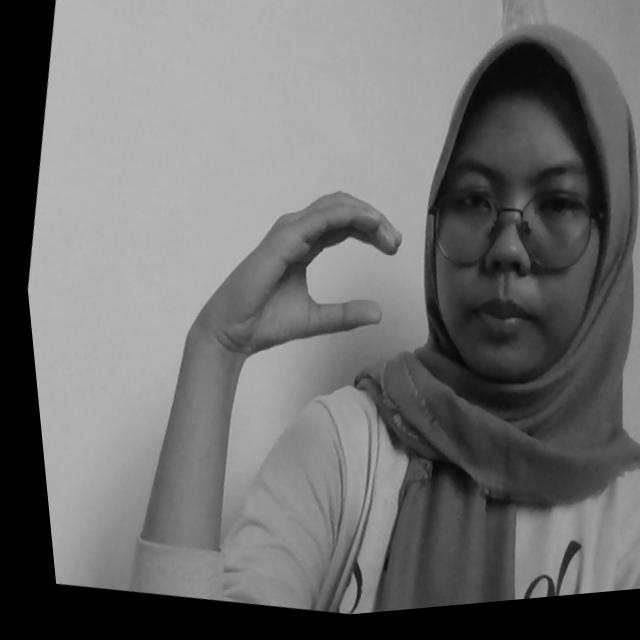C: (170, 164, 416, 387)
